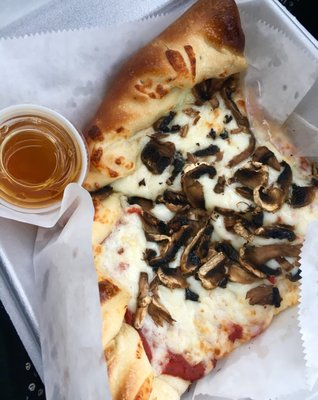pizza: (0, 103, 89, 221)
